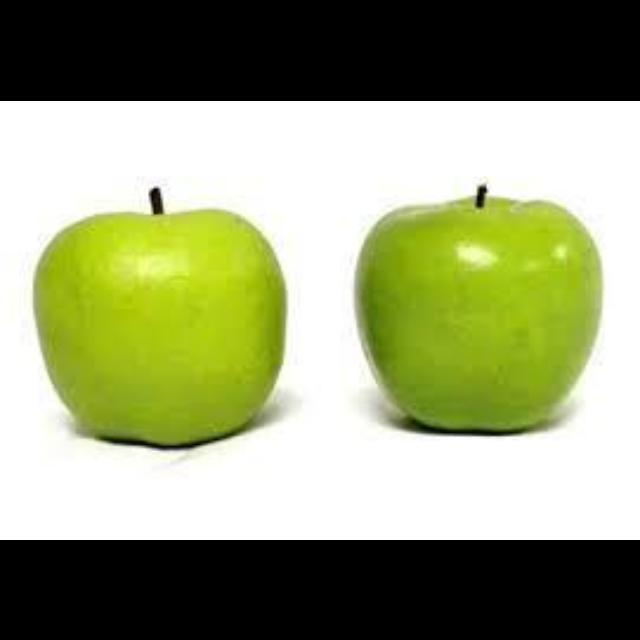apple: (33, 187, 283, 442), (354, 183, 600, 431)
